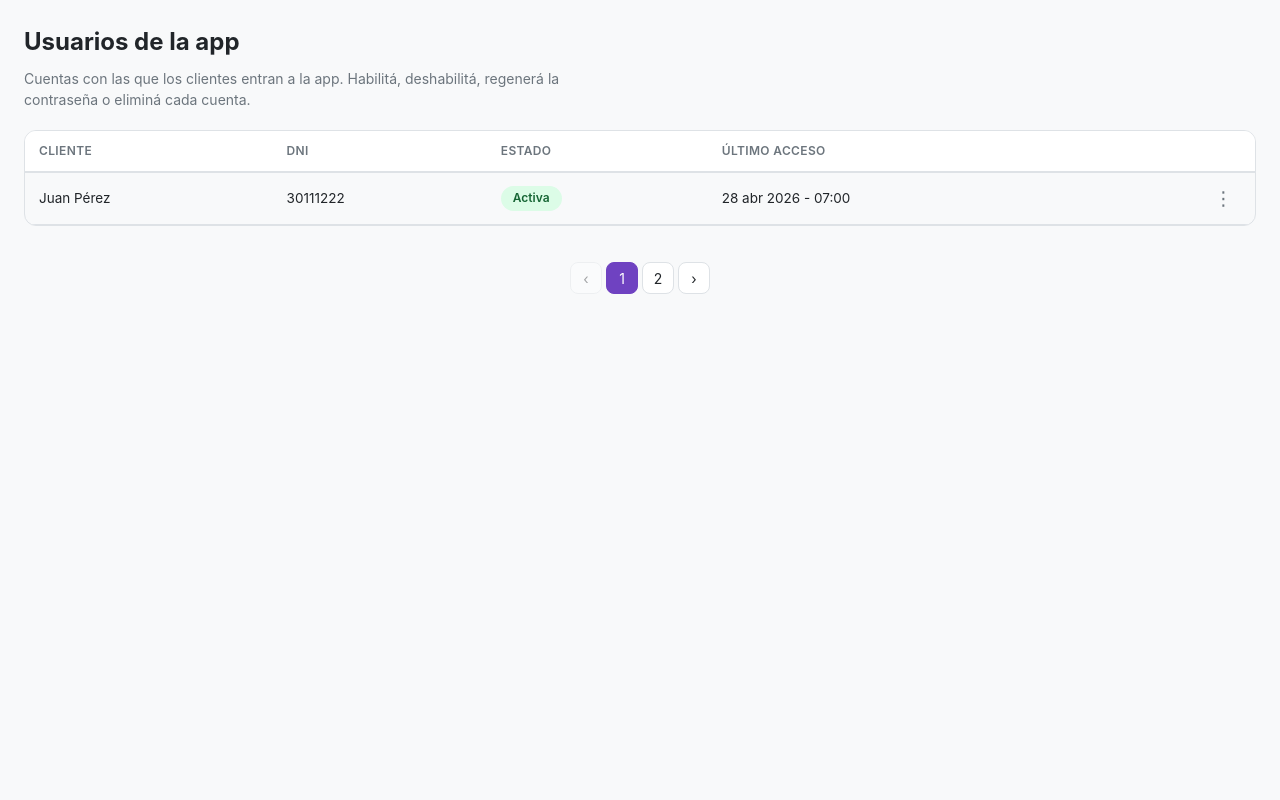
Test: PortalUsersPage › PU-7 borrar la última fila de la última página repliega a la real (no falso vacío)
The width and height of the screenshot is (1280, 800).
Expected: the text "Juan Pérez" is shown, [25, 172, 273, 225]
Click the button "2": (658, 278) [642, 262, 674, 294]
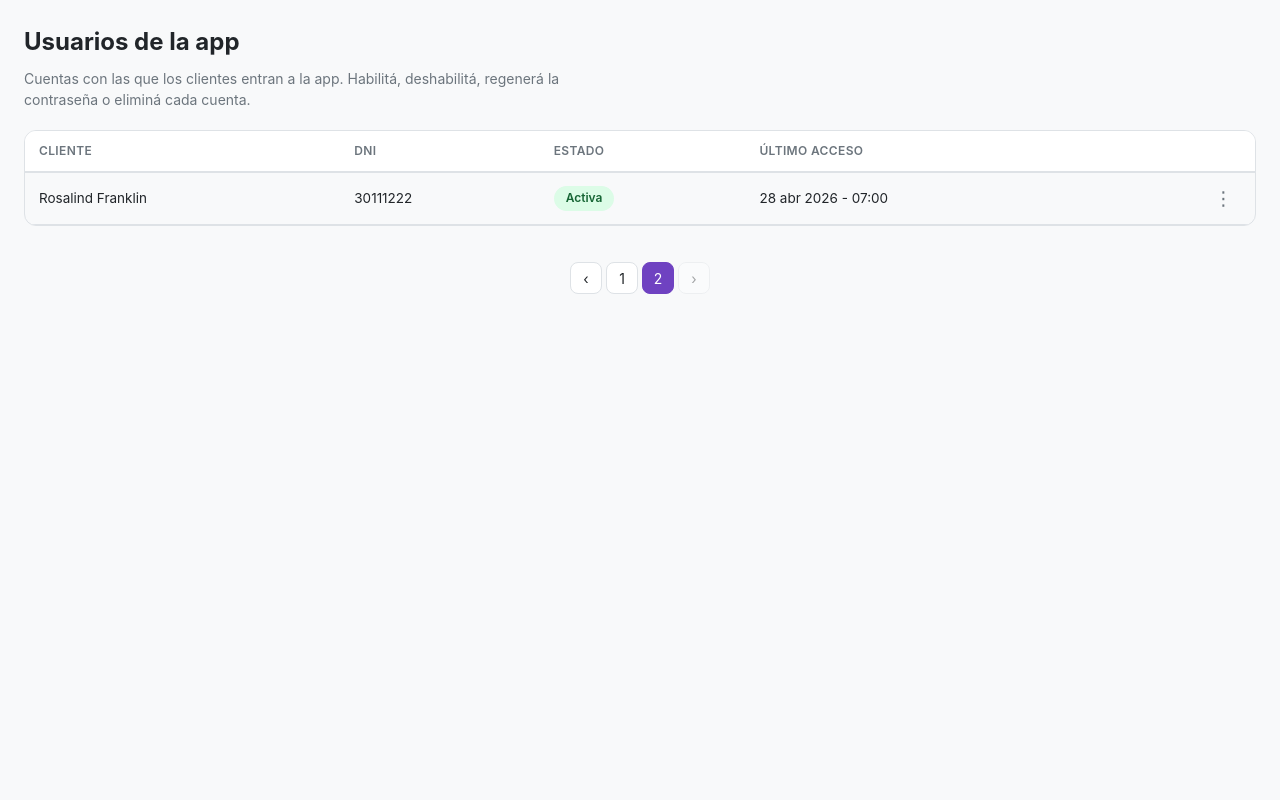
Result: the text "Rosalind Franklin" is shown at [25, 172, 340, 225]
Click the button named "acciones": (1223, 199) [1206, 185, 1241, 212]
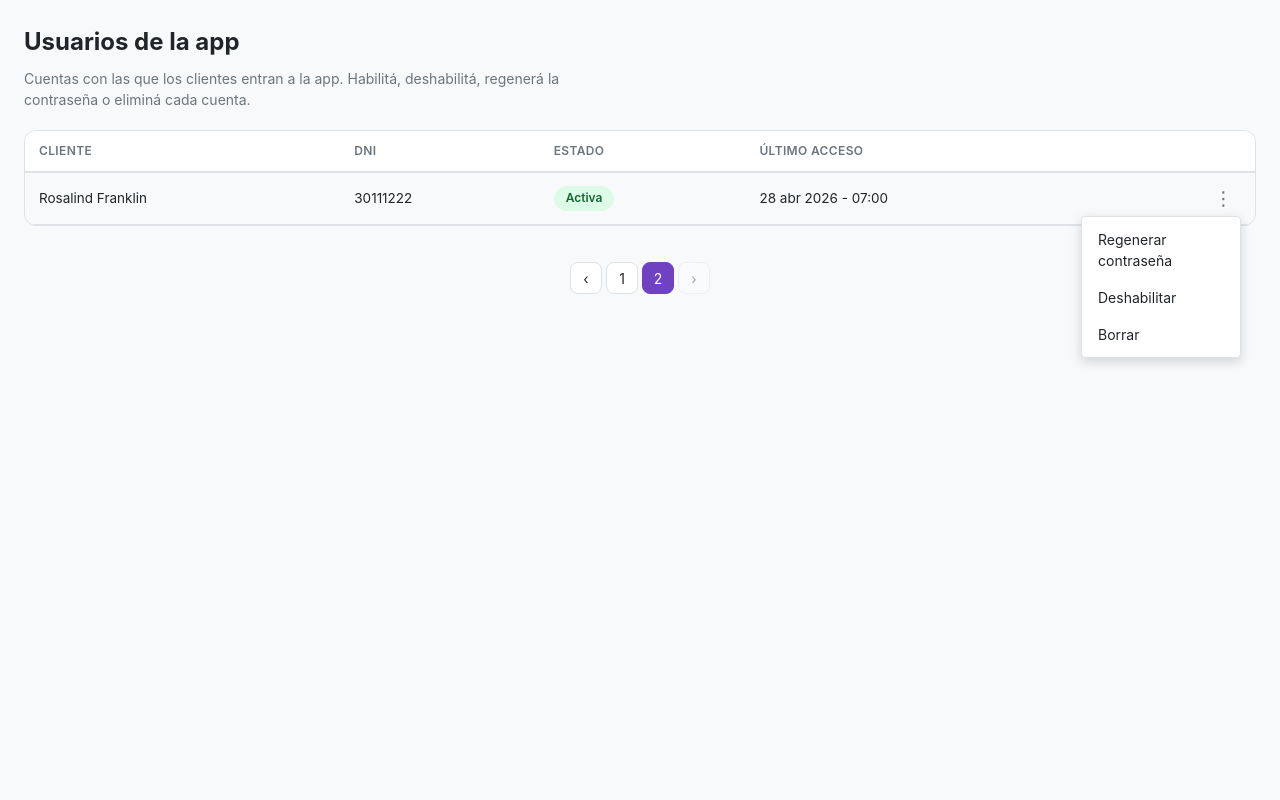
Click the menu item "Borrar": (1161, 335) [1082, 316, 1240, 353]
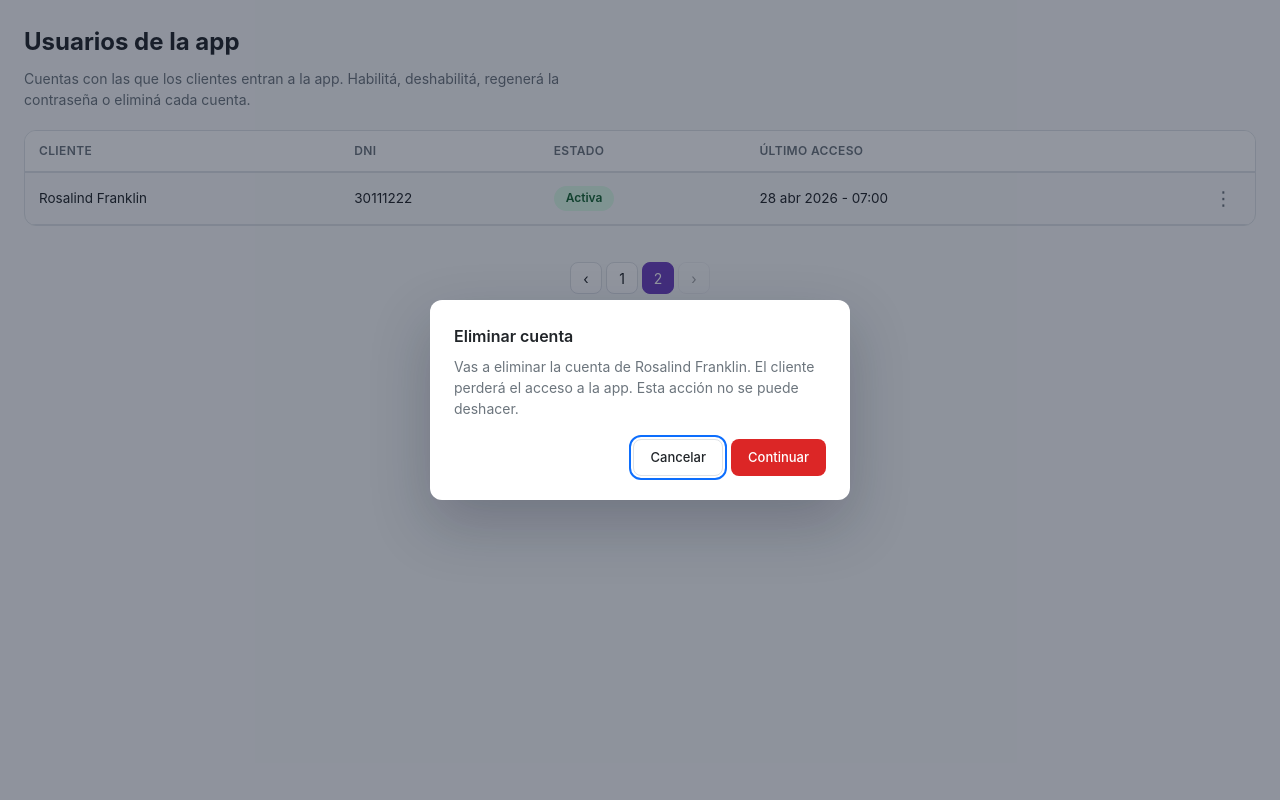
Click the button "Continuar": (778, 458) [731, 439, 826, 476]
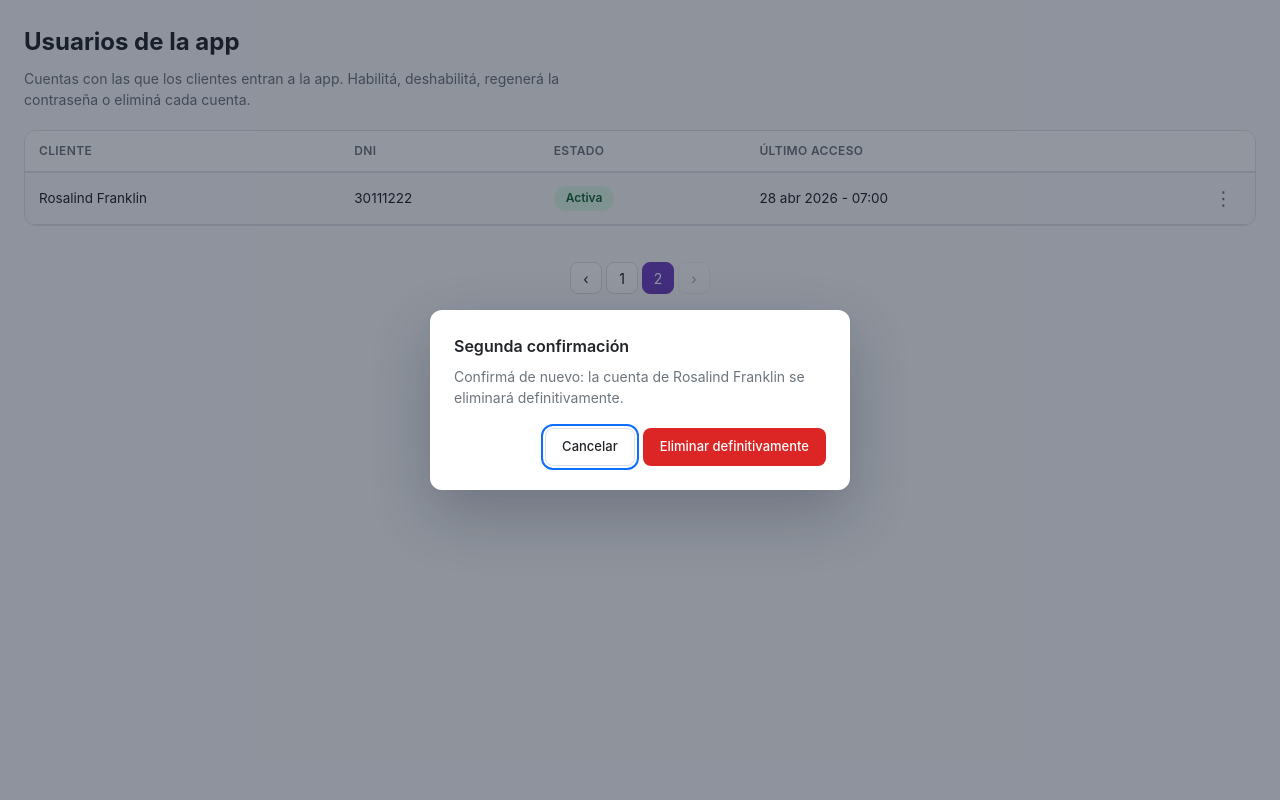
Click the button "Eliminar definitivamente": (734, 447) [643, 428, 826, 466]
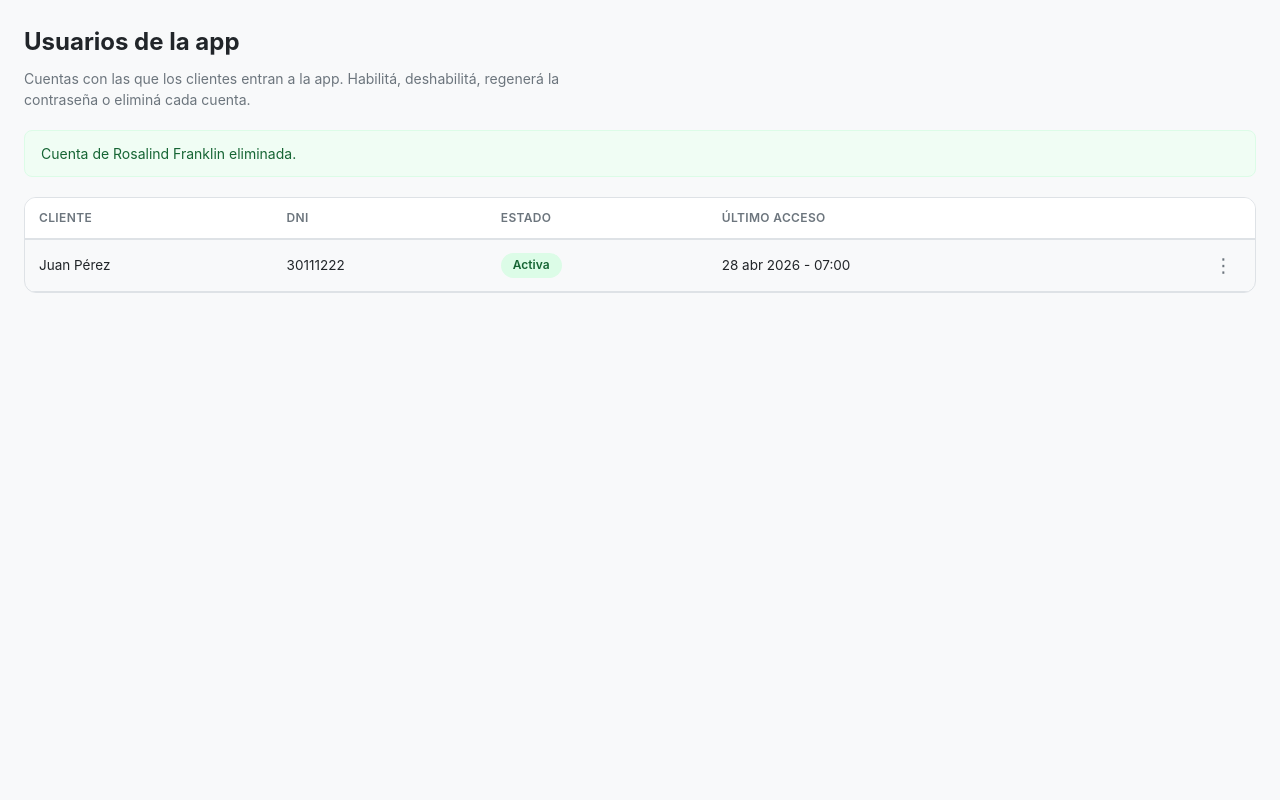
Result: the text "Juan Pérez" is shown at [25, 239, 273, 292]
